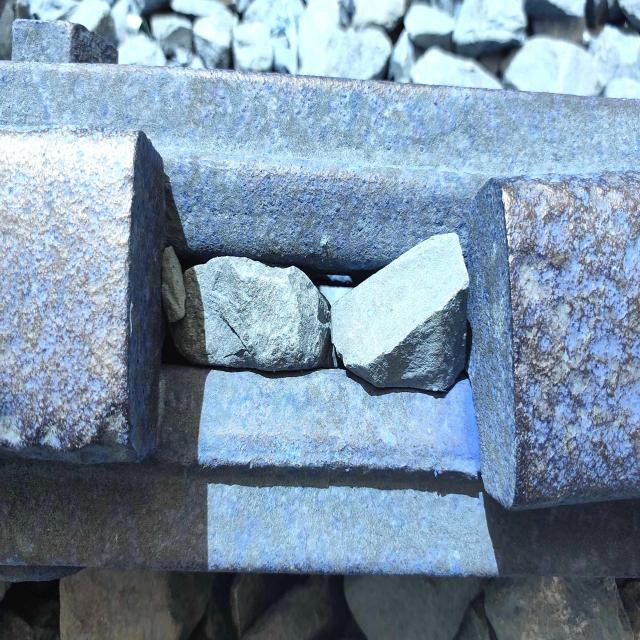Defective Joint: (2, 27, 640, 572)
